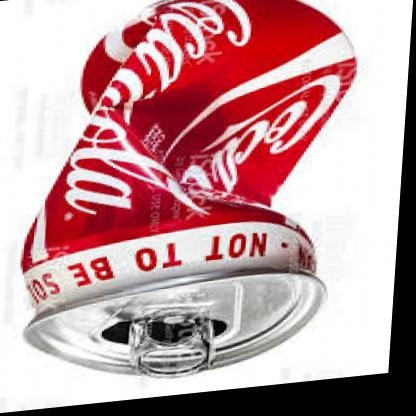trash: (22, 0, 355, 373)
